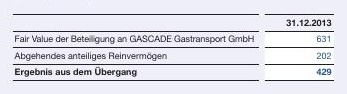table: (0, 0, 347, 94)
